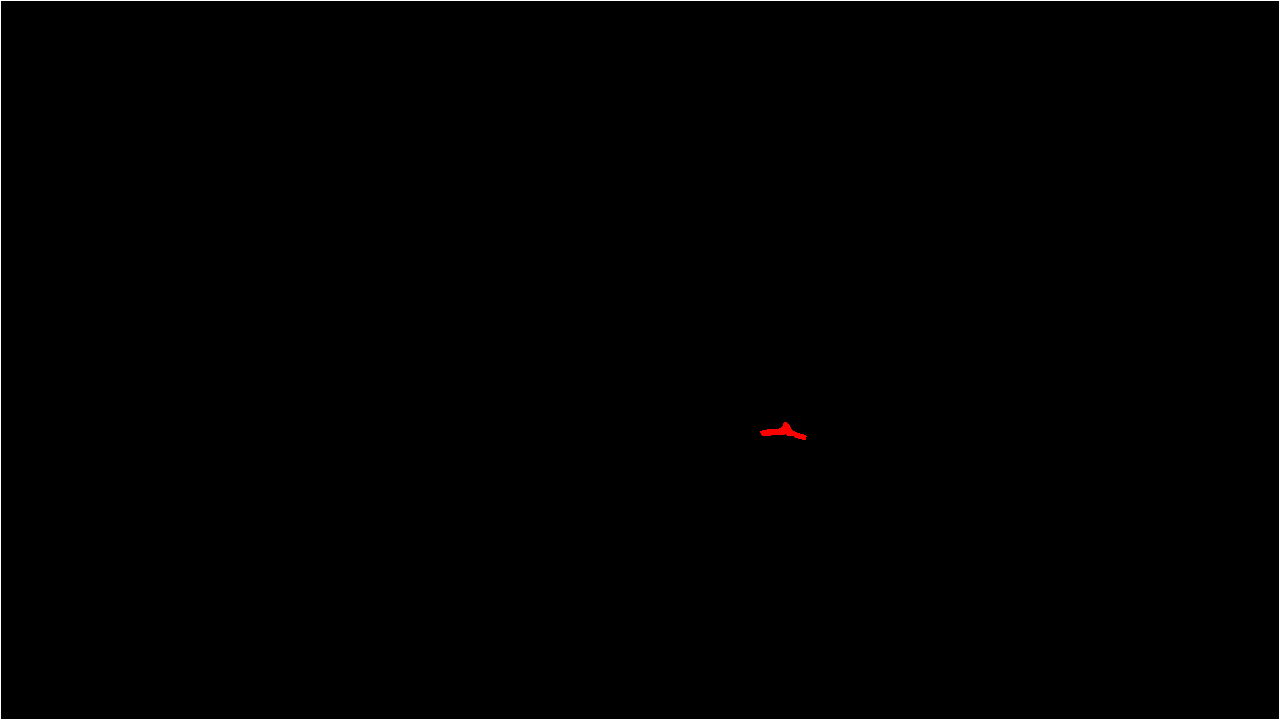drone: (757, 408, 820, 454)
